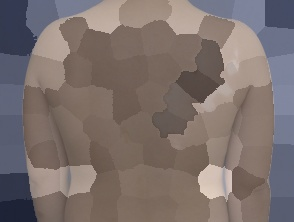vitiligo: (168, 29, 267, 127)
